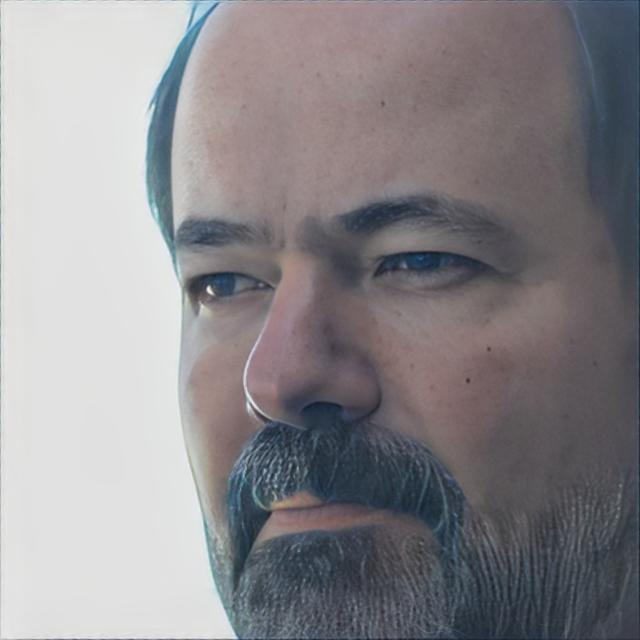anger: (168, 24, 600, 598)
